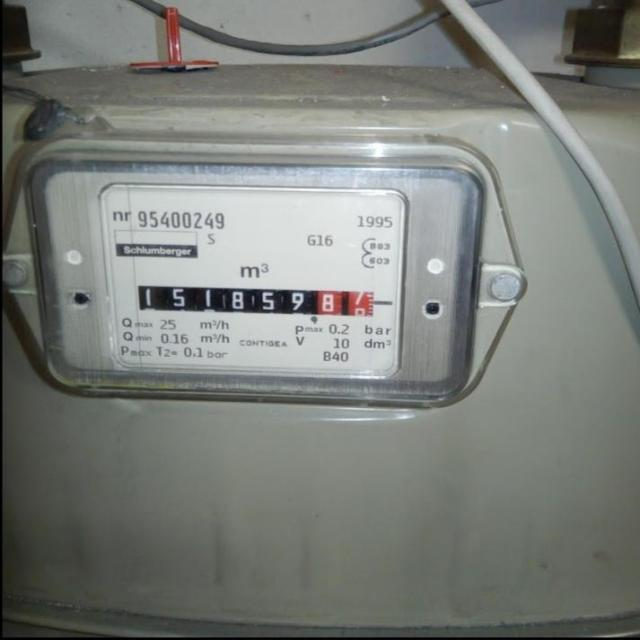gaz_meter: (97, 179, 406, 381)
indication: (132, 285, 377, 321)
